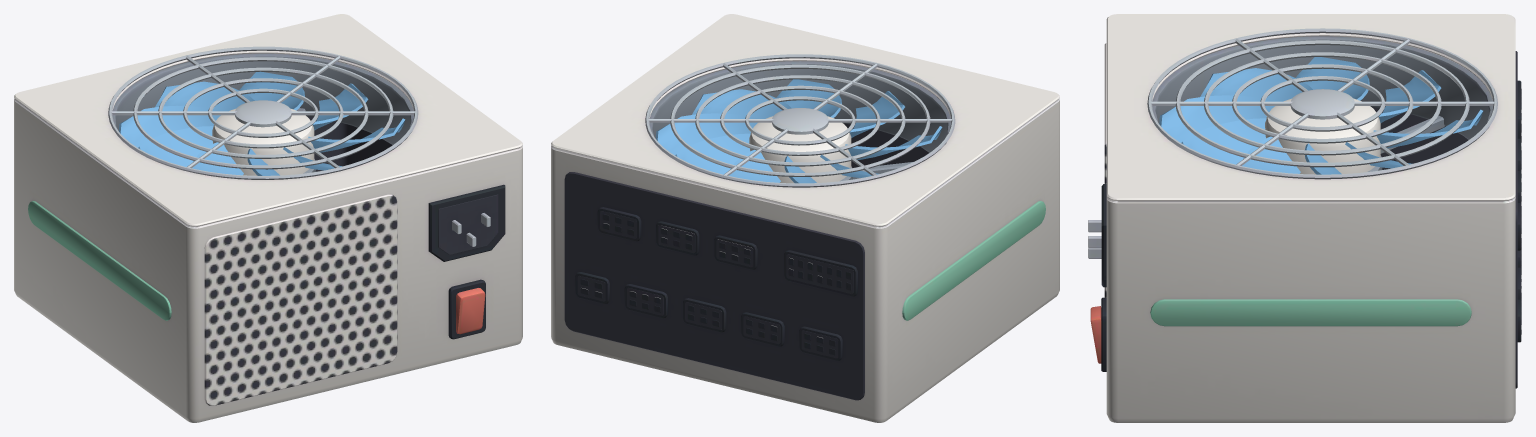
The model's file is psu.glb.
3 renders of one model, left to right at view 1: azimuth 30°, elevation 25°; view 2: azimuth 150°, elevation 25°; view 3: azimuth 270°, elevation 25°, orthographic. The views are drawn at different scales.
Visible parts, largest first — view 1: power-supply-unit_body, power-supply-unit_fan_rotor; view 2: power-supply-unit_body, power-supply-unit_fan_rotor; view 3: power-supply-unit_body, power-supply-unit_fan_rotor.
Boxes of the visible parts, x1=… form: power-supply-unit_body: x1=14, y1=14, x2=522, y2=422; power-supply-unit_fan_rotor: x1=119, y1=71, x2=405, y2=175; power-supply-unit_body: x1=551, y1=14, x2=1059, y2=422; power-supply-unit_fan_rotor: x1=656, y1=79, x2=942, y2=183; power-supply-unit_body: x1=1088, y1=14, x2=1521, y2=422; power-supply-unit_fan_rotor: x1=1159, y1=57, x2=1483, y2=174.
Bounding box in the file's own units: 0.1518 × 0.0896 × 0.1482.
3 materials, 1 textured.
